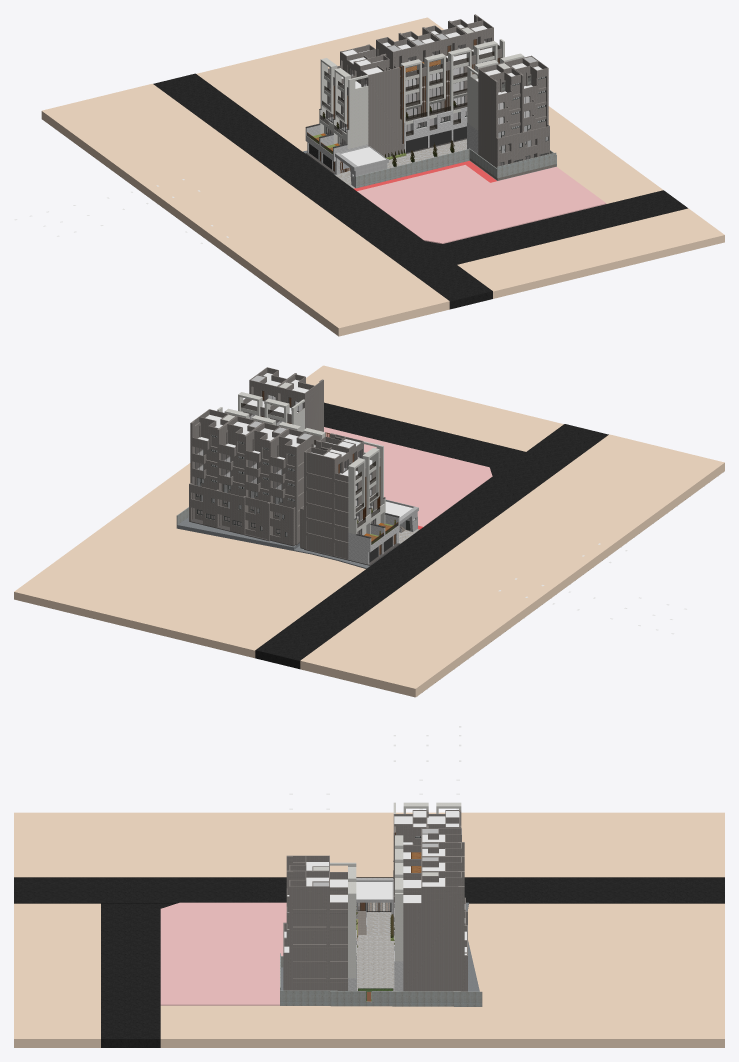
3 views of the same model, one above another, from view 1: azimuth 30°, elevation 25°; view 2: azimuth 150°, elevation 25°; view 3: azimuth 270°, elevation 25° (orthographic). The views are drawn at different scales.
Parts seen in each view (by area): view 1: mesh-0, mesh-16, mesh-7, mesh-8, mesh-5, mesh-33, mesh-9, mesh-4, mesh-21, mesh-11, mesh-19; view 2: mesh-0, mesh-7, mesh-16, mesh-8, mesh-5, mesh-18, mesh-9, mesh-4, mesh-15; view 3: mesh-0, mesh-16, mesh-7, mesh-33, mesh-21, mesh-8, mesh-9.
Part boxes in pixels (x1,y1,x2,y2): mesh-0: (14, 17, 724, 336); mesh-16: (153, 73, 687, 309); mesh-7: (326, 14, 549, 167); mesh-8: (319, 27, 524, 149); mesh-5: (307, 38, 547, 165); mesh-33: (355, 148, 556, 188); mesh-9: (305, 107, 478, 174); mesh-4: (319, 38, 548, 176); mesh-21: (335, 139, 466, 188); mesh-11: (333, 57, 501, 143); mesh-19: (335, 146, 392, 187); mesh-0: (14, 365, 724, 697); mesh-7: (189, 367, 380, 558); mesh-16: (255, 402, 608, 669); mesh-8: (197, 382, 385, 535); mesh-5: (195, 395, 401, 544); mesh-18: (177, 517, 400, 568); mesh-9: (348, 514, 399, 564); mesh-4: (195, 390, 415, 555); mesh-15: (189, 437, 399, 565); mesh-0: (14, 726, 724, 1047); mesh-16: (14, 877, 724, 1047); mesh-7: (283, 810, 467, 991); mesh-33: (280, 953, 482, 1006); mesh-21: (357, 902, 394, 998); mesh-8: (313, 802, 461, 978); mesh-9: (348, 902, 403, 991).
Size of the model in its own units: 122 by 24.05 by 120.
39 materials, 39 textured.
